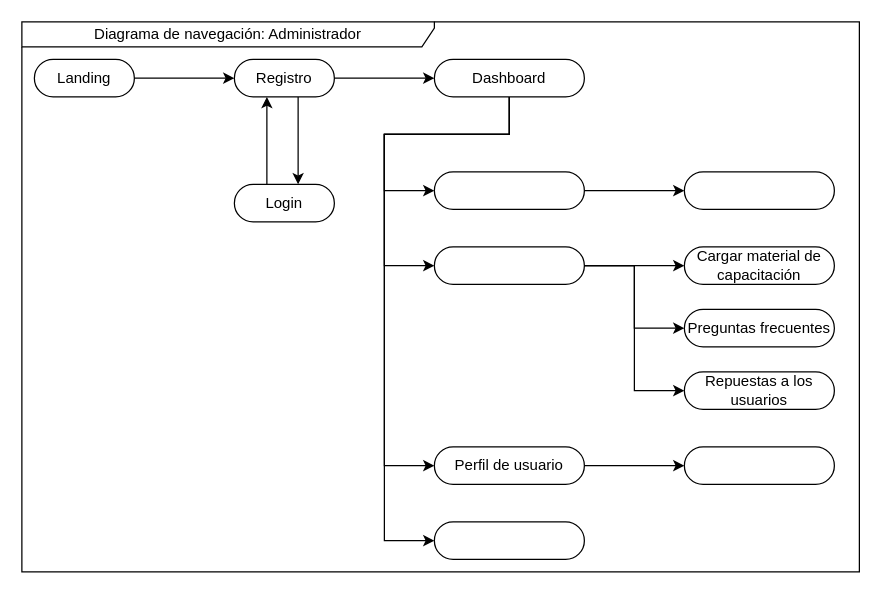
The diagram is 881 pixels wide and 594 high, and some of its shapes have lost their labels. The shapes that lost their labels are listed below. From the top down, each one's box as (x1, y1, x2, y2) in pixels, then its label:
(433, 171, 584, 209): Gestión de usuarios
(683, 171, 834, 209): Editar usuarios
(433, 246, 584, 284): Soporte y capacitación
(683, 446, 834, 484): Editar perfil
(433, 521, 584, 559): Notificaciones
